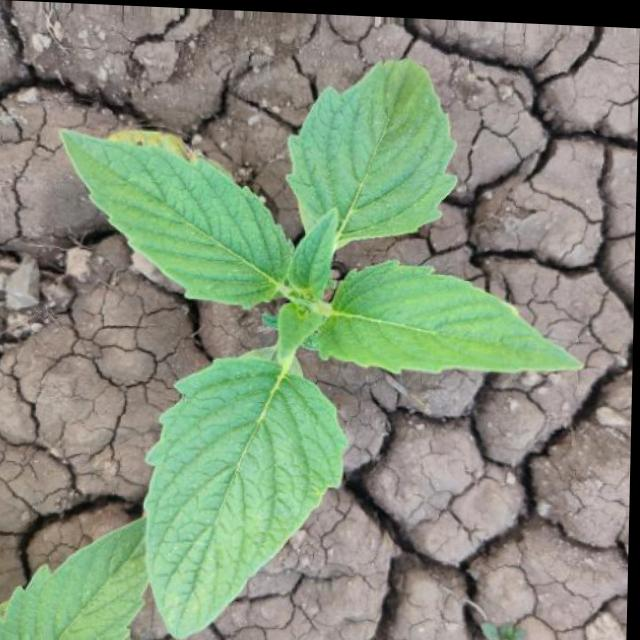crop: (20, 49, 590, 640)
